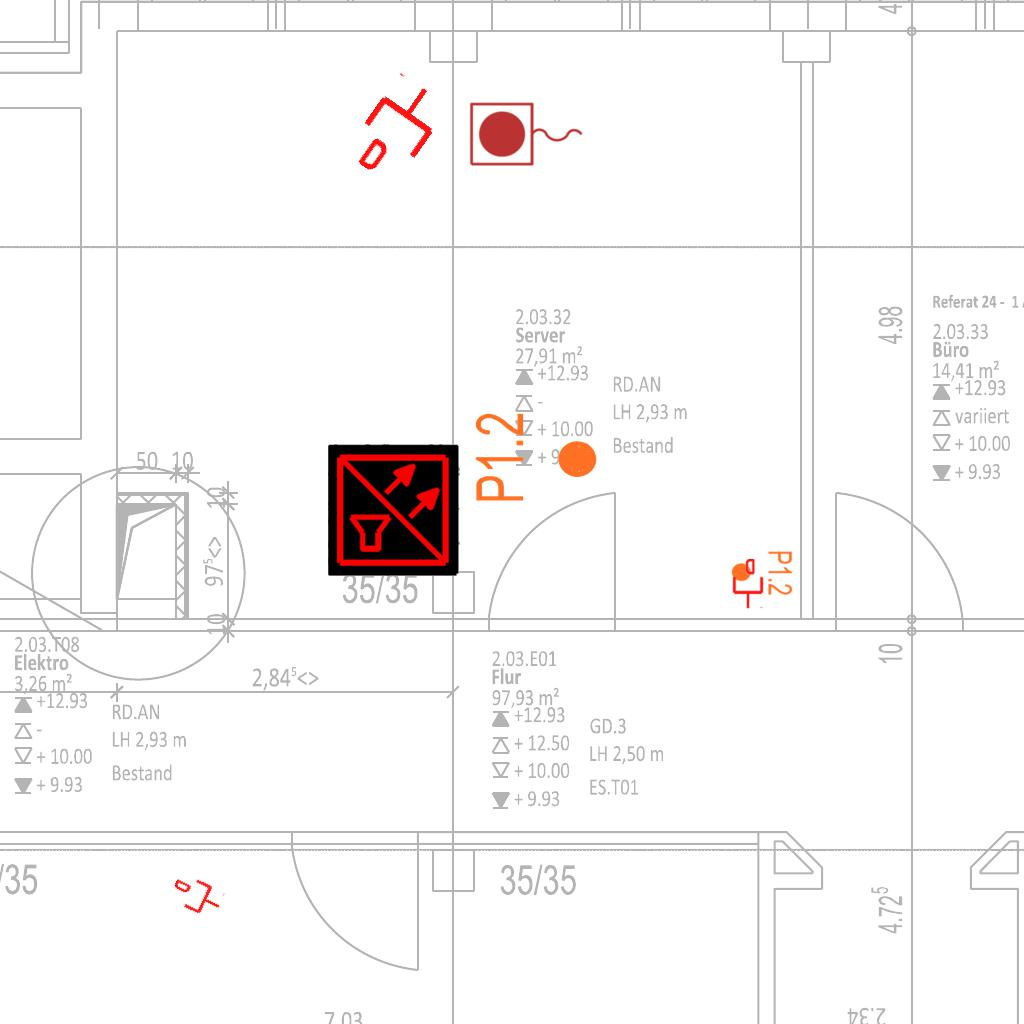Datenanschluss_einfach: (340, 68, 455, 190), (167, 869, 227, 923), (731, 559, 765, 609)
Downlight_LED_Einbauleuchten_Flur: (472, 411, 600, 504), (730, 550, 794, 596)
OKW_Multisensormelder_(Kombination_optischer_Rauch-Kahlenmonoxid_Waerme-Melder): (328, 444, 460, 576)
Zugtaster: (466, 99, 588, 171)
